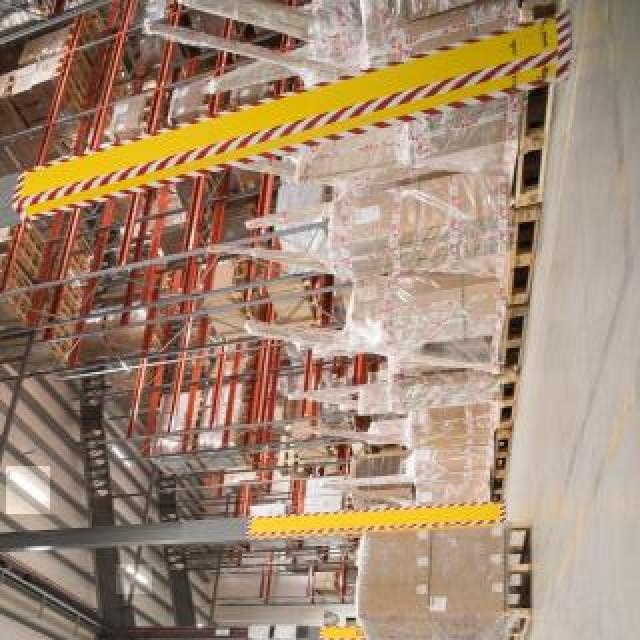fluorescent tube: (0, 466, 58, 517), (113, 558, 147, 595)
